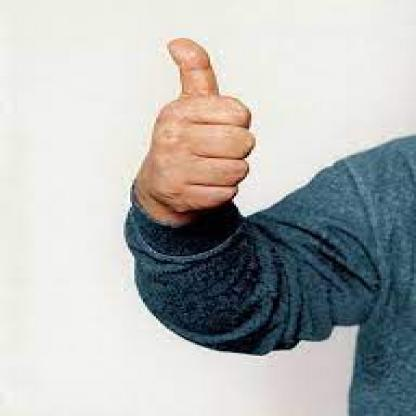thumb_up: (138, 36, 260, 216)
